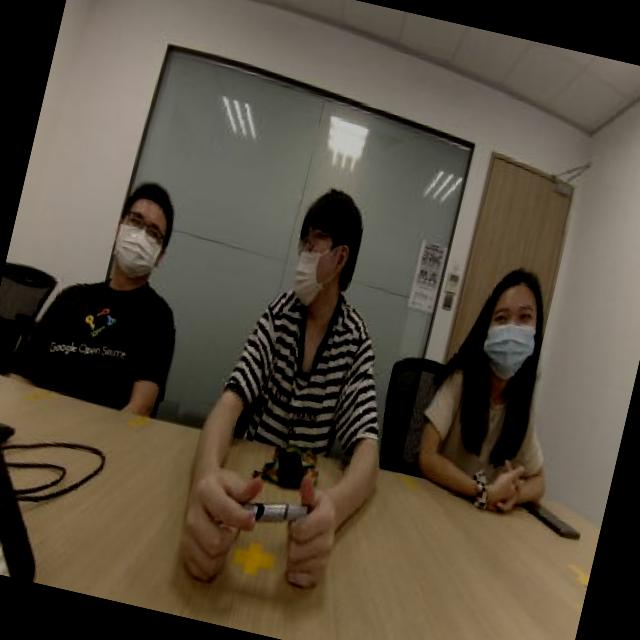Person: (231, 125, 432, 454), (22, 118, 220, 421), (408, 200, 580, 498)
